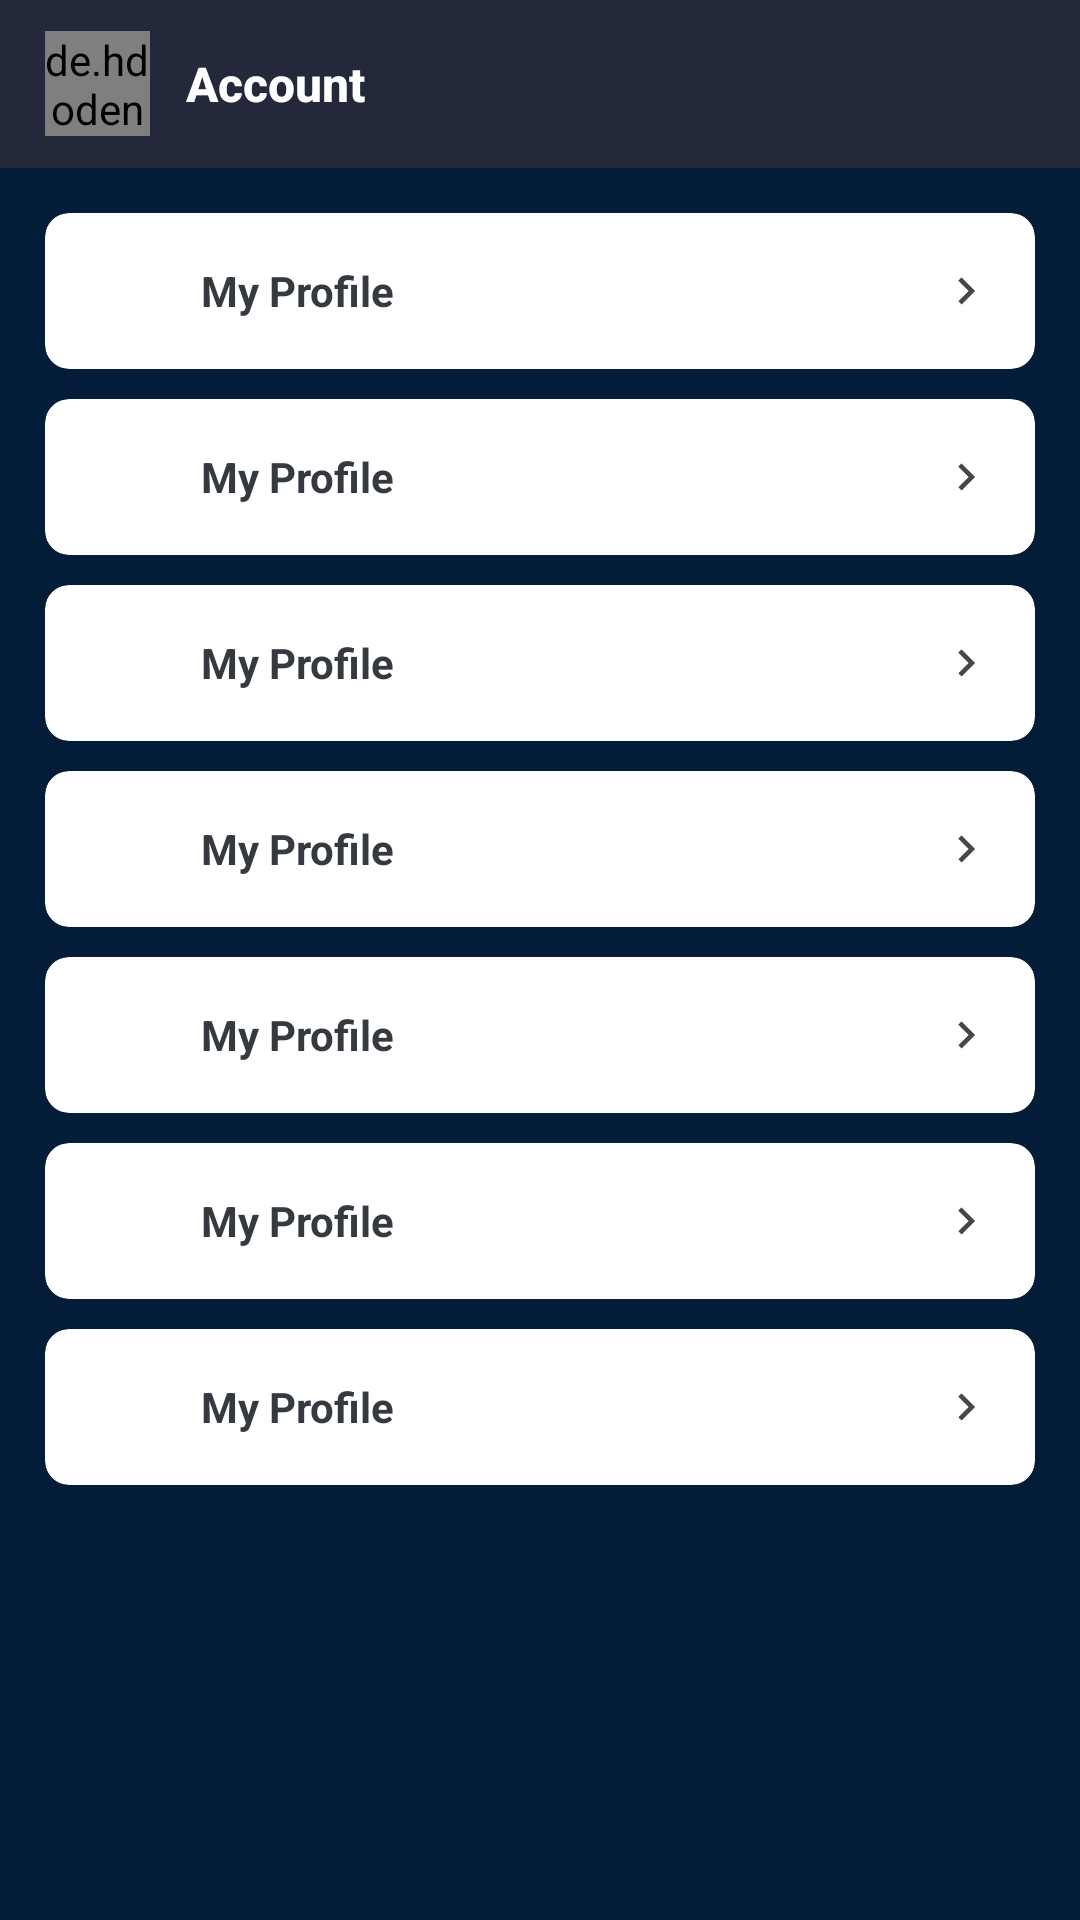

Icons on this 1080*1920 Android screen, each with the point to tap as [x,y]:
keyboard arrow right: [966,291], [966,477], [966,663], [966,849], [966,1035], [966,1221], [966,1407]
